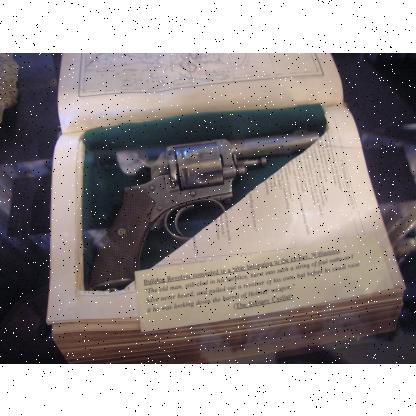gun: (86, 130, 320, 288)
